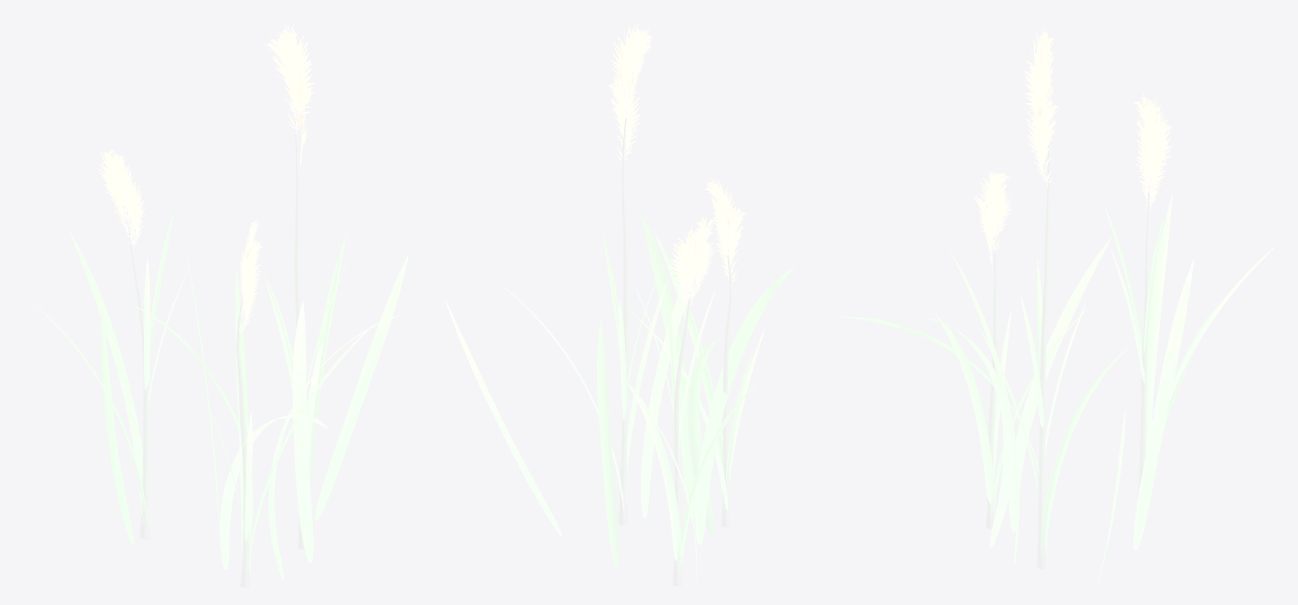
The picture shows the model from 3 angles, left to right: view 1: azimuth 30°, elevation 25°; view 2: azimuth 150°, elevation 25°; view 3: azimuth 270°, elevation 25°; orthographic projection. The views are drawn at different scales.
Parts seen in each view (by area): view 1: SM_Bullrush_01_LOD0; view 2: SM_Bullrush_01_LOD0; view 3: SM_Bullrush_01_LOD0.
Part boxes in pixels (x1=…): SM_Bullrush_01_LOD0: x1=21, y1=22, x2=408, y2=588; SM_Bullrush_01_LOD0: x1=445, y1=22, x2=794, y2=587; SM_Bullrush_01_LOD0: x1=837, y1=28, x2=1277, y2=587.
Size of the model in its own units: 0.9278 by 1.29 by 0.9746.
1 material, 1 textured.
